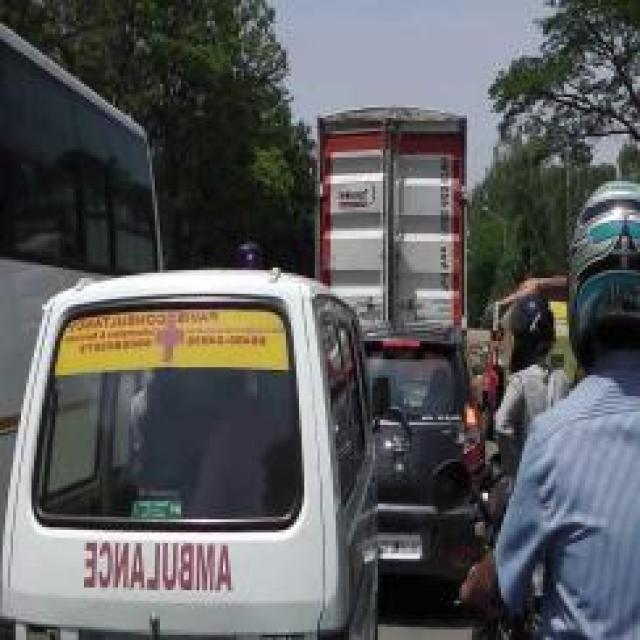Ambulance: (0, 252, 383, 637)
Bus: (0, 0, 168, 275)
truck: (312, 102, 470, 338)
